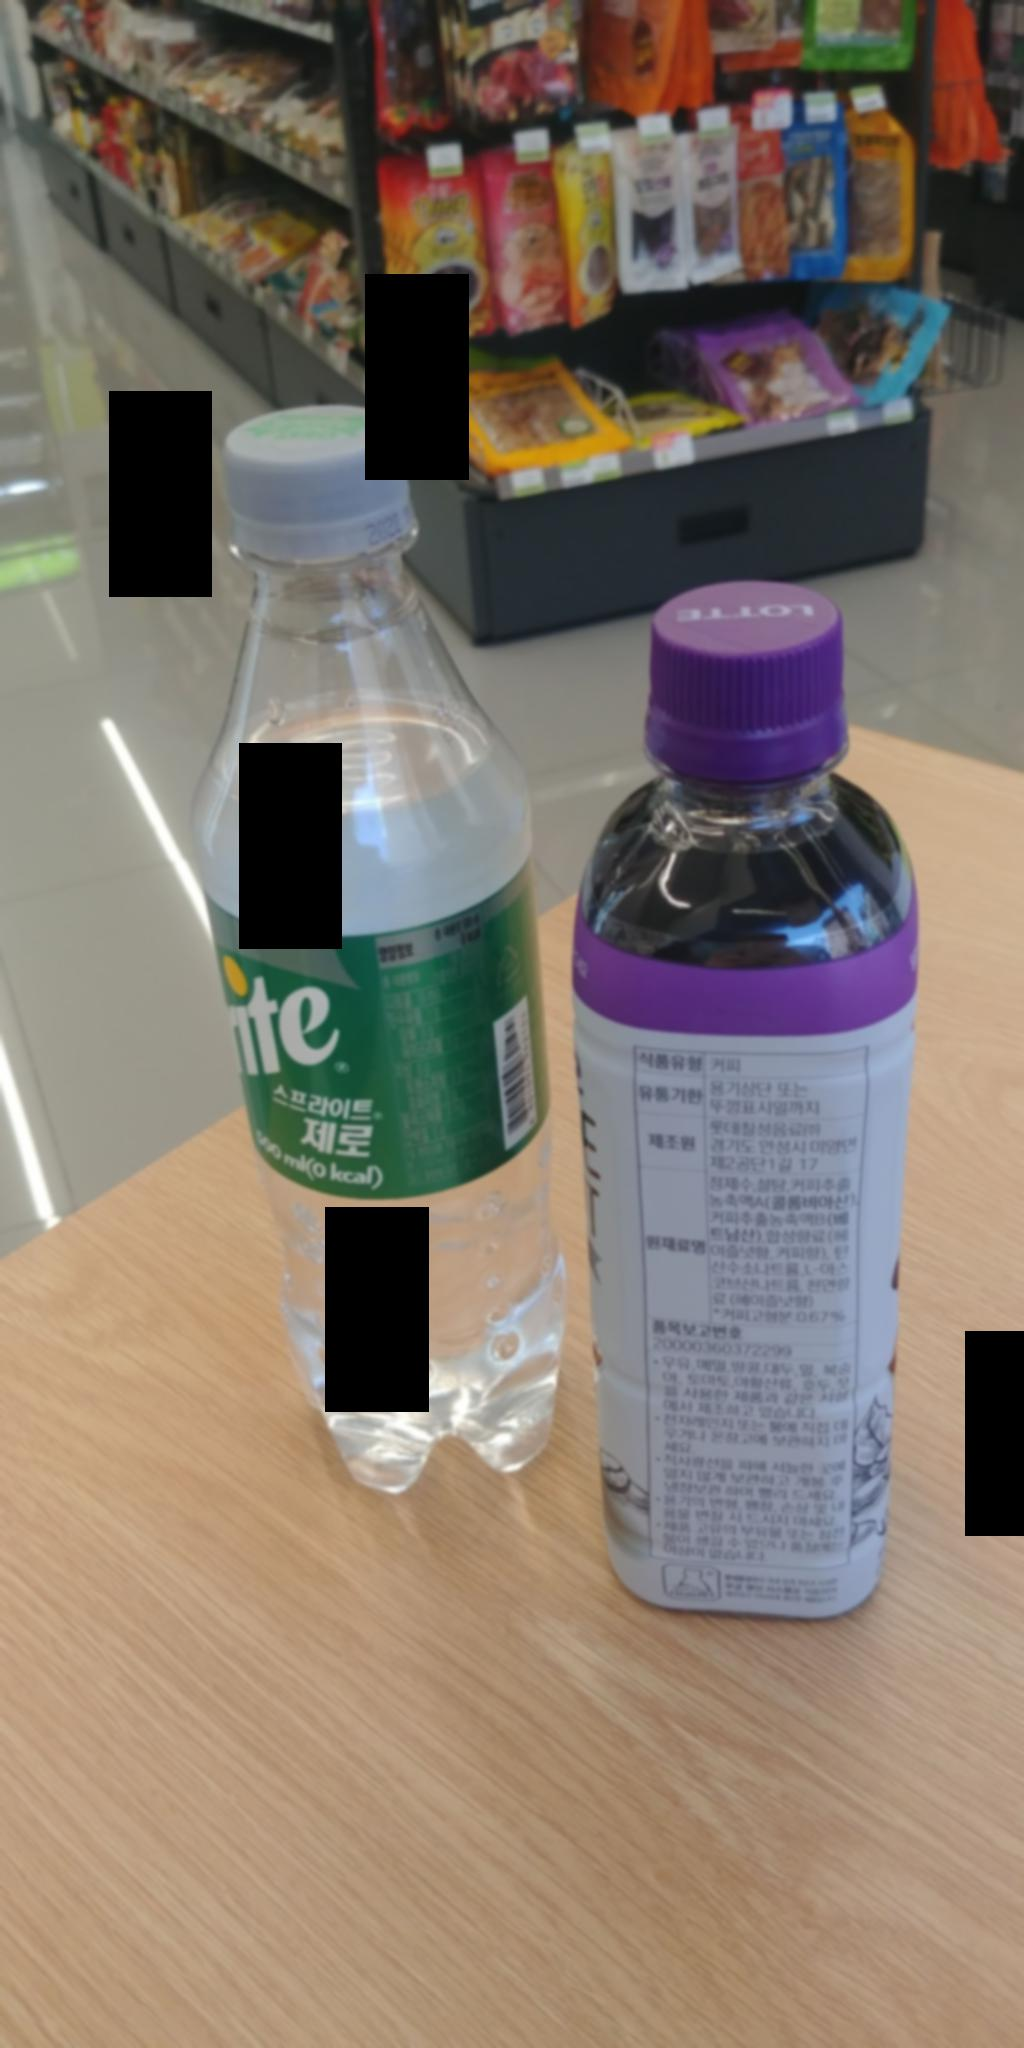letsbe_grande_hazelnut: (573, 571, 969, 1659)
sprite_zero: (159, 368, 579, 1523)
